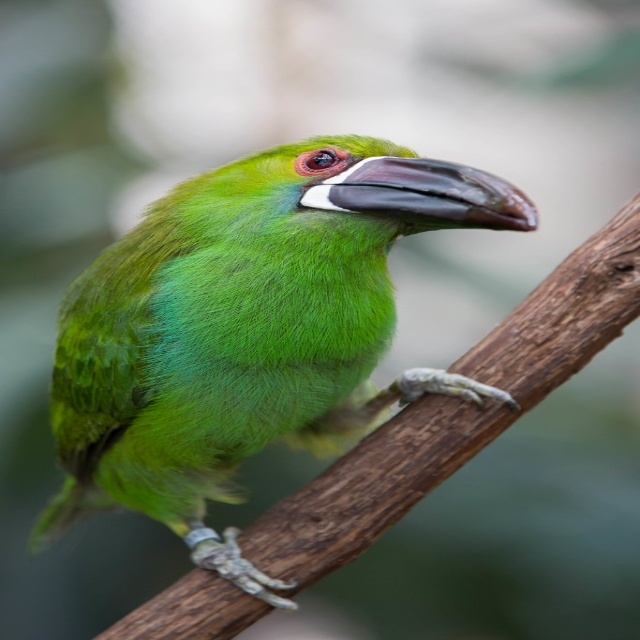Parrot: (22, 133, 542, 608)
